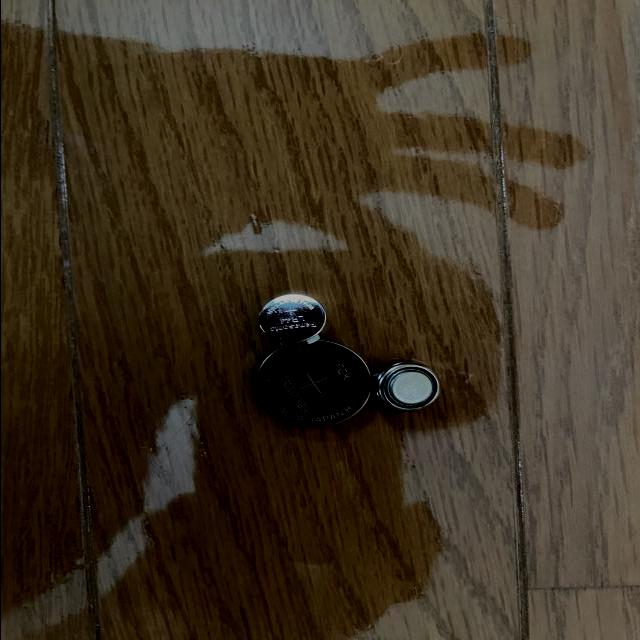COIN: (252, 338, 370, 428), (258, 290, 328, 348), (372, 360, 441, 416)
